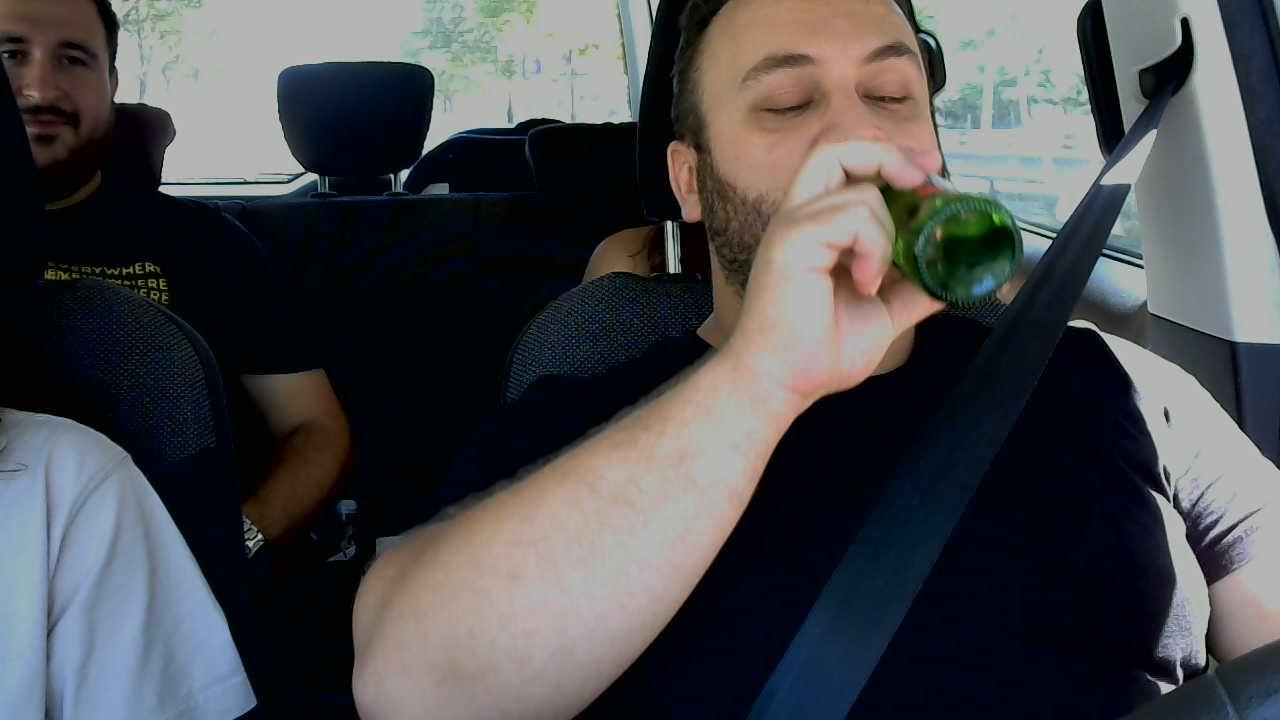Drinking: (668, 0, 1020, 382)
